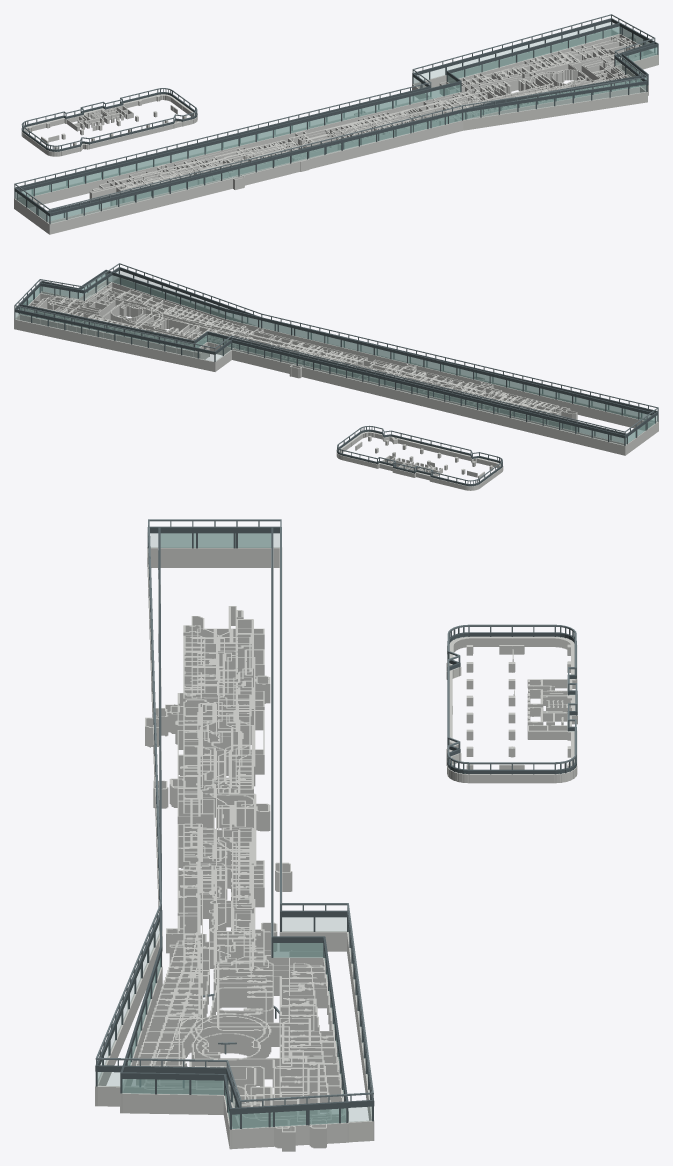
Rendered from fortune.glb.
3 views of the same model, one above another, from view 1: azimuth 30°, elevation 25°; view 2: azimuth 150°, elevation 25°; view 3: azimuth 270°, elevation 25° (orthographic). The views are drawn at different scales.
Visible parts, largest first — view 1: walls-4@4, glass-1@1, walls-1@1, frame-4@4, frame-1@1, glass-4@4, walls-3@3, walls-2@2, glass-2@2, walls-G@G, podium-roof-rail@4, walls-tower@11 (+2 smaller); view 2: walls-4@4, walls-1@1, glass-1@1, frame-4@4, frame-1@1, walls-3@3, glass-4@4, glass-2@2, walls-G@G, podium-roof-rail@4, walls-tower@11, walls-2@2 (+2 smaller); view 3: walls-4@4, walls-3@3, walls-1@1, walls-G@G, walls-2@2, walls-tower@11, frame-1@1, frame-4@4, glass-1@1, glass-2@2, podium-roof-rail@4, glass-4@4 (+2 smaller).
Part boxes in pixels (x1,y1,x2,y2): walls-4@4: (14, 29, 654, 234); glass-1@1: (17, 27, 657, 221); walls-1@1: (16, 34, 658, 232); frame-4@4: (14, 18, 655, 224); frame-1@1: (16, 22, 658, 222); glass-4@4: (15, 22, 649, 223); walls-3@3: (16, 37, 646, 231); walls-2@2: (16, 36, 638, 231); glass-2@2: (18, 27, 656, 220); walls-G@G: (92, 49, 621, 205); podium-roof-rail@4: (14, 14, 655, 213); walls-tower@11: (21, 94, 197, 156); walls-4@4: (14, 278, 658, 455); walls-1@1: (20, 280, 656, 453); glass-1@1: (20, 274, 654, 442); frame-4@4: (14, 267, 658, 445); frame-1@1: (18, 269, 655, 444); walls-3@3: (24, 285, 655, 450); glass-4@4: (15, 271, 657, 444); glass-2@2: (20, 275, 654, 442); walls-G@G: (54, 293, 577, 429); podium-roof-rail@4: (14, 263, 658, 435); walls-tower@11: (336, 431, 503, 490); walls-2@2: (27, 289, 648, 439); walls-4@4: (95, 547, 374, 1148); walls-3@3: (144, 548, 331, 1151); walls-1@1: (120, 547, 348, 1149); walls-G@G: (153, 610, 303, 1116); walls-2@2: (158, 561, 344, 1126); walls-tower@11: (446, 636, 577, 783); frame-1@1: (120, 526, 348, 1129); frame-4@4: (95, 526, 374, 1128); glass-1@1: (122, 533, 345, 1128); glass-2@2: (123, 534, 345, 1128); podium-roof-rail@4: (95, 519, 373, 1108); glass-4@4: (97, 533, 371, 1121).
Size of the model in its own units: 21.89 by 0.8825 by 7.64.
